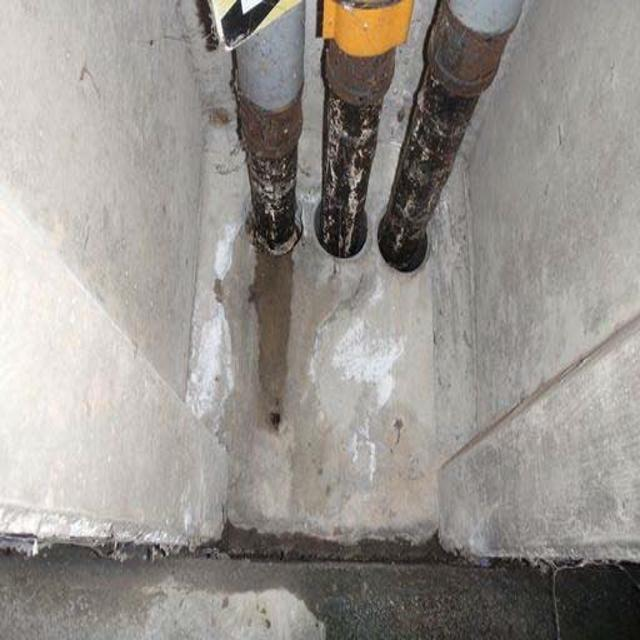freelime: (178, 224, 233, 467), (334, 277, 409, 442)
leakage: (247, 238, 296, 442)
